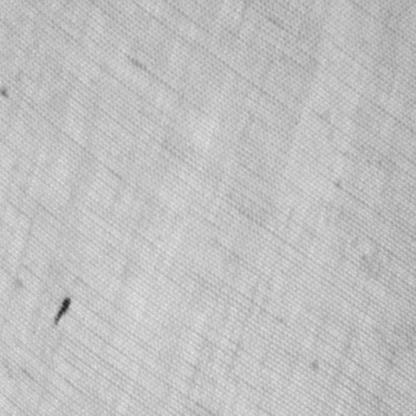oil spot: (52, 296, 72, 330)
